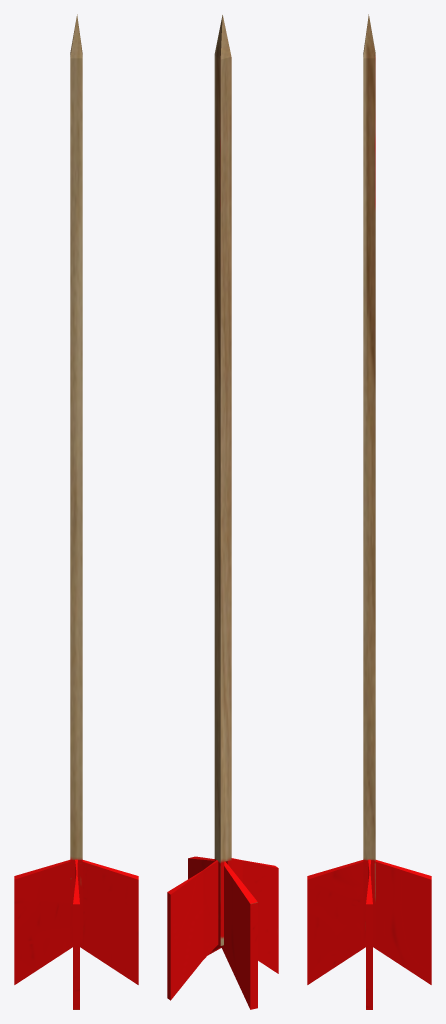
Rendered from arrow_2.obj.
3 renders of one model, left to right at view 1: azimuth 90°, elevation 25°; view 2: azimuth 210°, elevation 25°; view 3: azimuth 270°, elevation 25°, orthographic.
Visible parts, largest first — view 1: Cube; view 2: Cube; view 3: Cube.
Part boxes in pixels (bbox=[...]): Cube: bbox=[14, 14, 138, 1009]; Cube: bbox=[167, 15, 278, 1009]; Cube: bbox=[307, 14, 431, 1009].
Size of the model in its own units: 0.2134 by 1.83 by 0.2134.
Materials: 1 (1 with a texture image).
